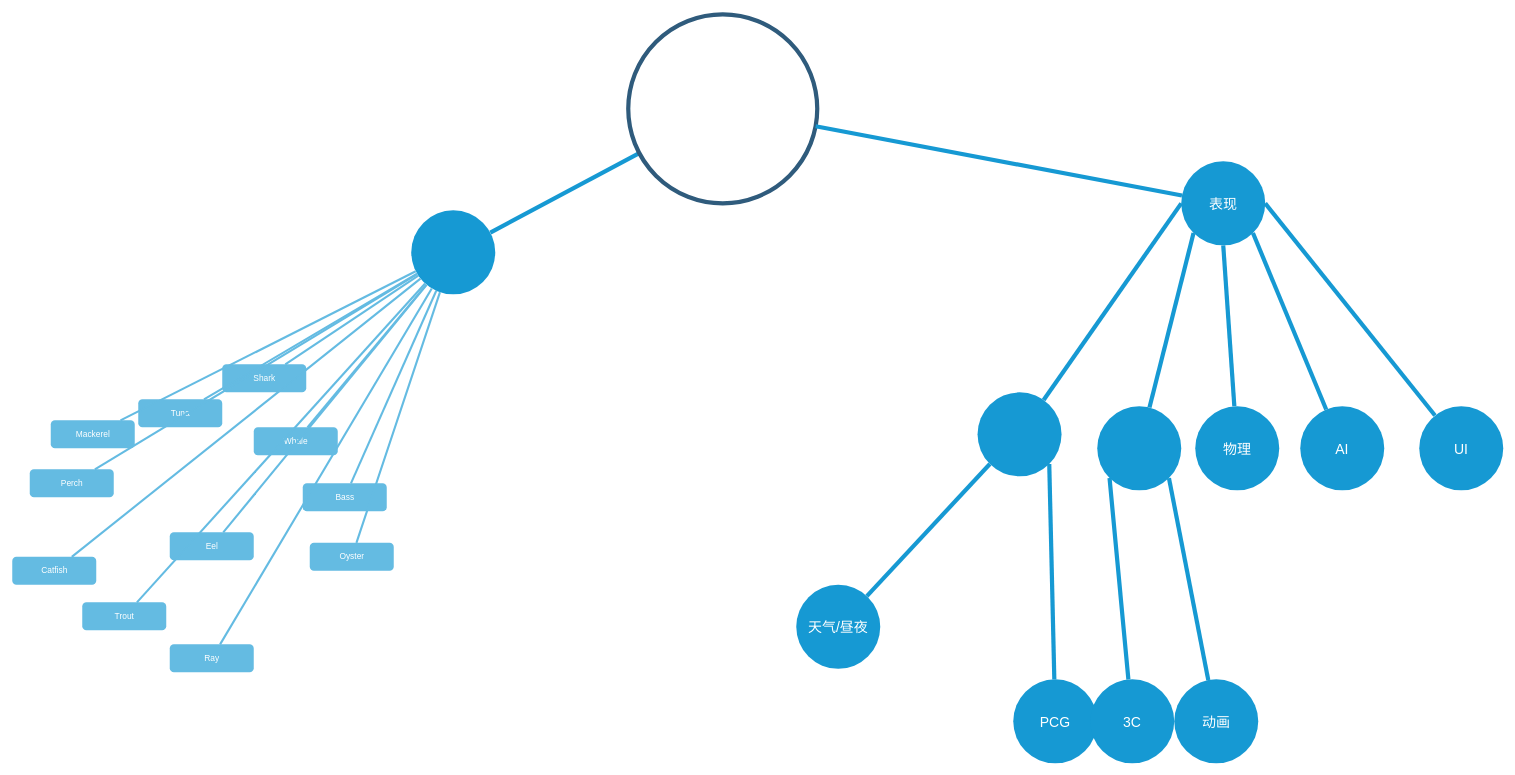
Image size: 1515x775. Some labels were removed from this diagram. The box of each missing label's shape, as (x1, y1, x2, y2) in pixels:
场景: (977, 392, 1061, 476)
引擎/工具链: (411, 210, 495, 294)
玩法: (626, 12, 819, 205)
角色: (1097, 406, 1181, 490)
